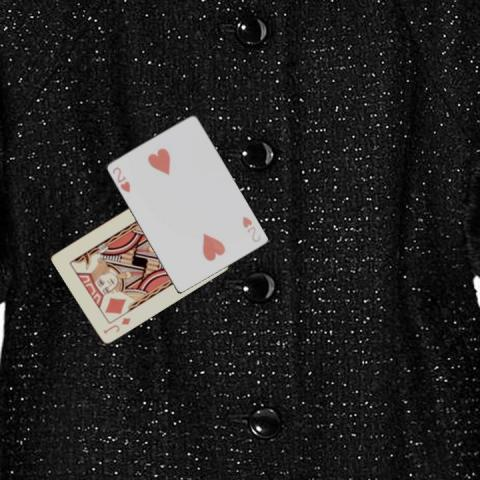2h: (239, 214, 262, 244), (110, 164, 132, 194)
Jd: (100, 314, 132, 335)
